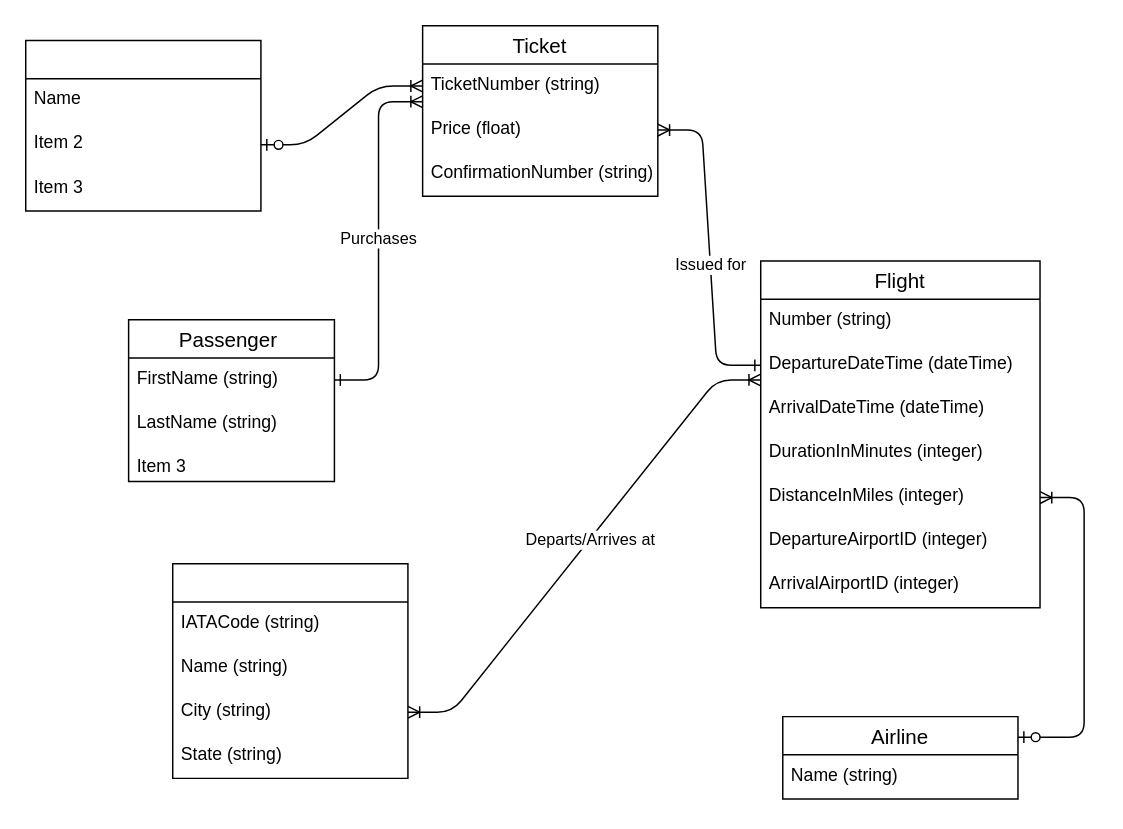
Some shapes in this 1123 by 829 pixel diagram are drawn without their labels. The box of each missing label's shape, as (x1, y1, x2, y2) in pixels:
Airport: (171, 562, 408, 778)
FlightClass: (24, 39, 261, 211)
